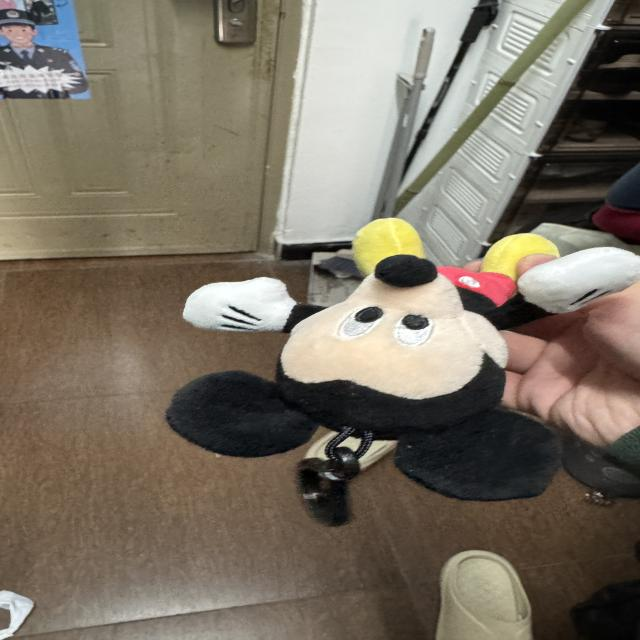mickey: (168, 249, 639, 500)
